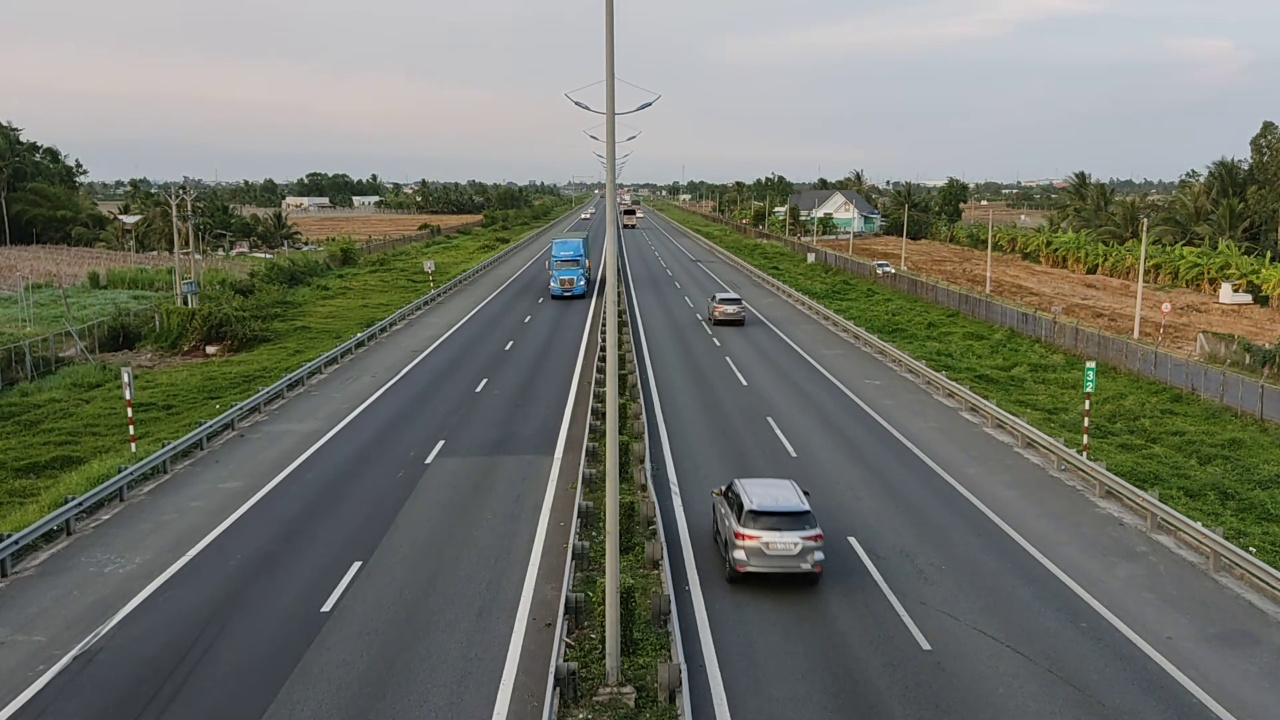car: (710, 477, 826, 583), (707, 293, 746, 325)
truck: (544, 232, 598, 302)
